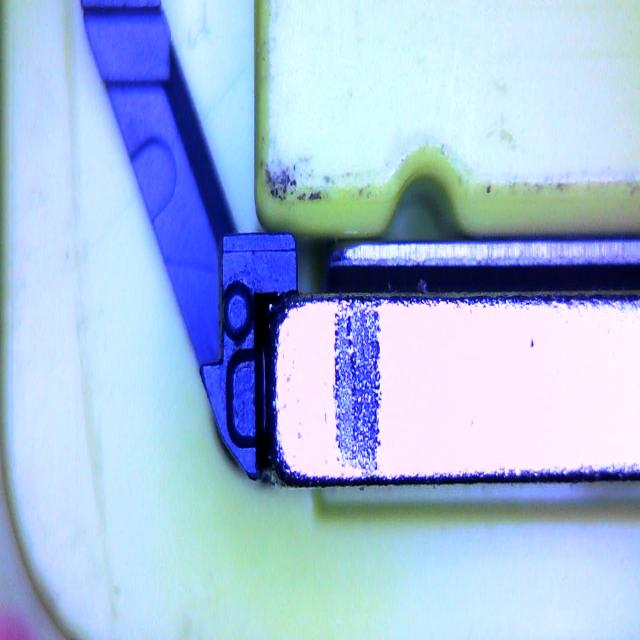lacking: (225, 346, 262, 449)
